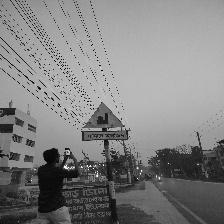Mosque in front: (82, 103, 128, 142)
